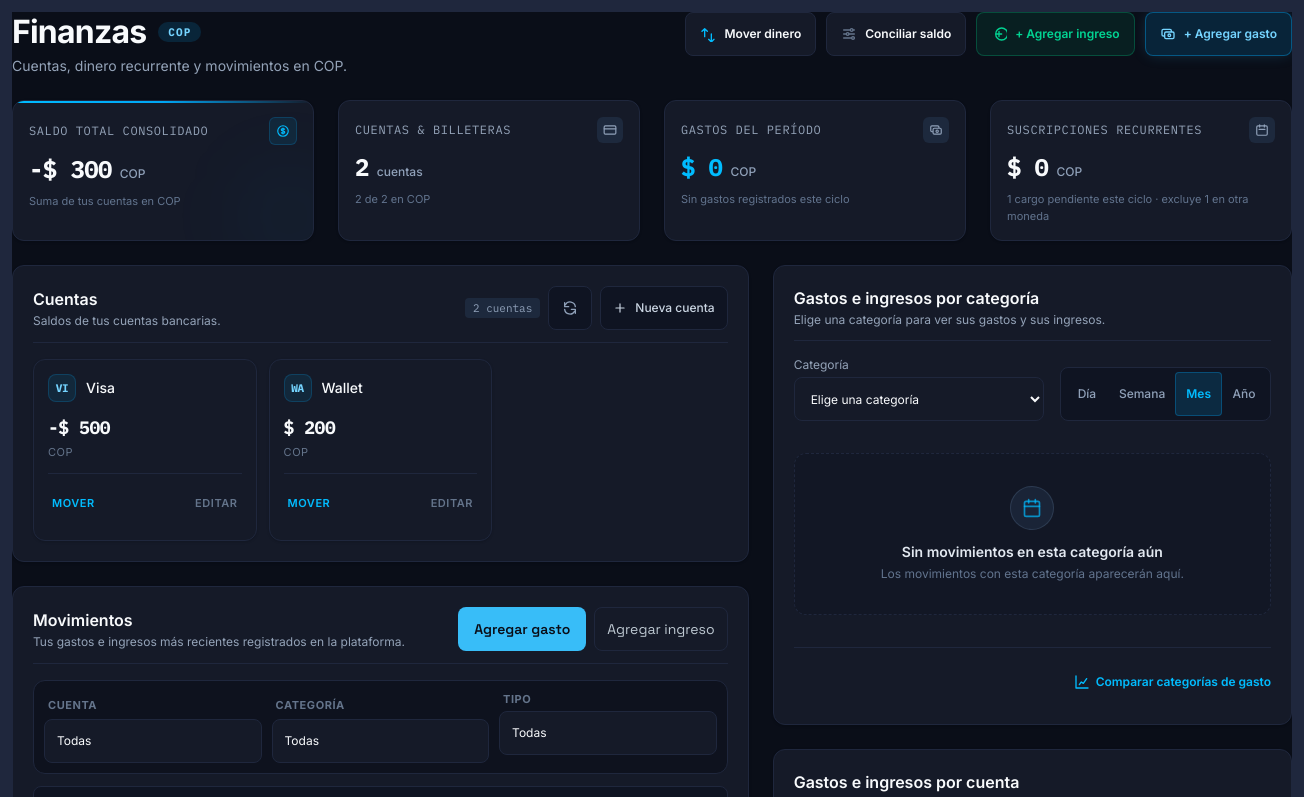
finance screens › renders the two-series category trend from movement aggregates
Select "Alimentación" in the dropdown labelled "Categoría" below "Gastos e ingresos por categoría" at {"x": 919, "y": 399}, box [794,377,1044,421]
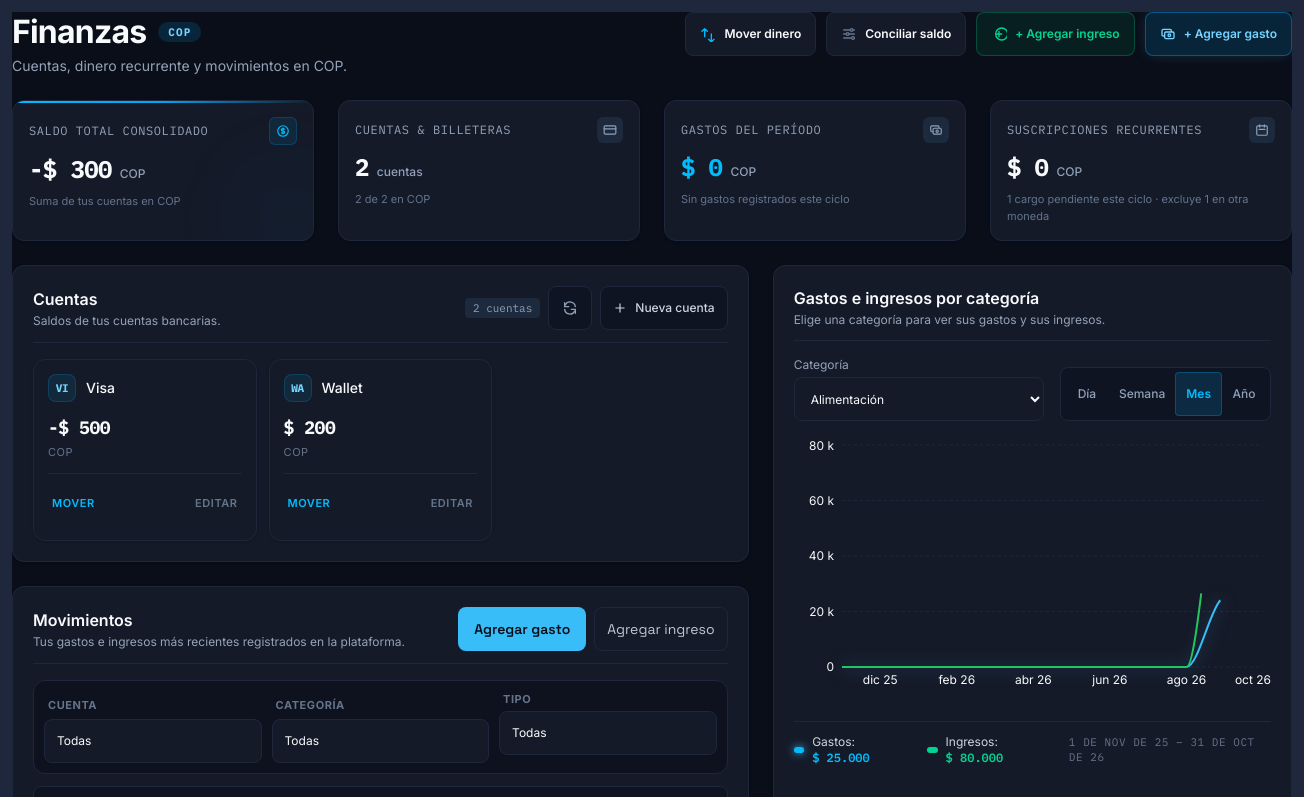
Expected: the radio button labelled "Mes" is checked, [1175,372,1222,416]
Now the picture named "Tendencia de gastos e ingresos" is shown, box [794,437,1271,697]
